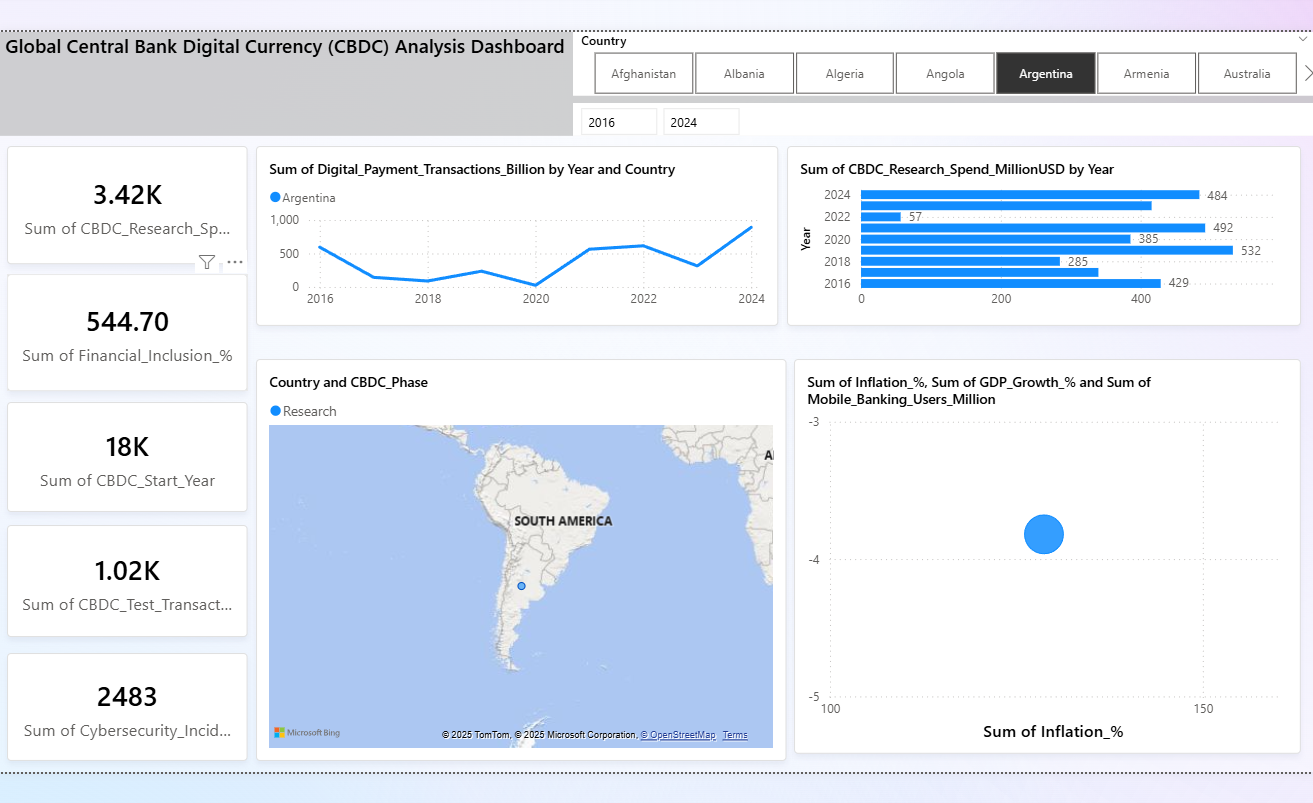

What the dashboard file says about the page in this screenshot:
{"tool":"powerbi","page":{"name":"Page 1","canvas":[1280,720],"ordinal":0},"visuals":[{"type":"textbox","title":"Global Central Bank Digital Currency (CBDC) Analysis Dashboard","box":[0,0,1280,101.2],"z":0},{"type":"slicer","fields":{"Values":["Sheet1.Country"]},"box":[557.3,0,722.7,62.2],"z":1000},{"type":"slicer","fields":{"Values":["Sheet1.Year"]},"box":[557.3,69.1,722.7,32.1],"z":2000},{"type":"card","fields":{"Values":["Sum(Sheet1.CBDC_Research_Spend_MillionUSD)"]},"box":[6.8,110.9,234.4,114.8],"z":3000},{"type":"card","fields":{"Values":["Sum(Sheet1.CBDC_Start_Year)"]},"box":[6.8,359.9,234.4,107],"z":4000},{"type":"lineChart","fields":{"Category":["Sheet1.Year"],"Y":["Sum(Sheet1.Digital_Payment_Transactions_Billion)"],"Series":["Sheet1.Country"]},"box":[249,110.9,507.7,175.1],"z":5000},{"type":"clusteredBarChart","fields":{"Y":["Sum(Sheet1.CBDC_Research_Spend_MillionUSD)"],"Category":["Sheet1.Year"]},"box":[765.5,110.9,499.9,175.1],"z":6000},{"type":"map","fields":{"Category":["Sheet1.Country"],"Series":["Sheet1.CBDC_Phase"]},"box":[249,318.1,516.5,391],"z":7000},{"type":"scatterChart","fields":{"X":["Sum(Sheet1.Inflation_%)"],"Y":["Sum(Sheet1.GDP_Growth_%)"],"Size":["Sum(Sheet1.Mobile_Banking_Users_Million)"]},"box":[772.3,318.1,493.1,384.2],"z":8000},{"type":"card","fields":{"Values":["Sum(Sheet1.CBDC_Test_Transactions_Million)"]},"box":[6.8,479.5,234.4,108.9],"z":9000},{"type":"card","fields":{"Values":["Sum(Sheet1.Cybersecurity_Incidents)"]},"box":[6.8,604,234.4,105],"z":10000},{"type":"card","fields":{"Values":["Sum(Sheet1.Financial_Inclusion_%)"]},"box":[6.8,235.4,234.4,113.8],"z":11000}]}

Visuals, with their boxes on the page's 1280x720 design canvas (x1, y1, x2, y2). These are canvas units, not pixel positions in the 1313x803 screenshot, which may show the page scaled, cropped or inside an application window:
"Global Central Bank Digital Currency (CBDC) Analysis Dashboard" textbox: pyautogui.locateOnScreen(0, 0, 1280, 101)
slicer - Sheet1.Country: pyautogui.locateOnScreen(557, 0, 1280, 62)
slicer - Sheet1.Year: pyautogui.locateOnScreen(557, 69, 1280, 101)
card - Sum(Sheet1.CBDC_Research_Spend_MillionUSD): pyautogui.locateOnScreen(7, 111, 241, 226)
card - Sum(Sheet1.CBDC_Start_Year): pyautogui.locateOnScreen(7, 360, 241, 467)
lineChart - Sheet1.Year x Sum(Sheet1.Digital_Payment_Transactions_Billion): pyautogui.locateOnScreen(249, 111, 757, 286)
clusteredBarChart - Sum(Sheet1.CBDC_Research_Spend_MillionUSD) x Sheet1.Year: pyautogui.locateOnScreen(766, 111, 1265, 286)
map - Sheet1.Country x Sheet1.CBDC_Phase: pyautogui.locateOnScreen(249, 318, 766, 709)
scatterChart - Sum(Sheet1.Inflation_%) x Sum(Sheet1.GDP_Growth_%): pyautogui.locateOnScreen(772, 318, 1265, 702)
card - Sum(Sheet1.CBDC_Test_Transactions_Million): pyautogui.locateOnScreen(7, 480, 241, 588)
card - Sum(Sheet1.Cybersecurity_Incidents): pyautogui.locateOnScreen(7, 604, 241, 709)
card - Sum(Sheet1.Financial_Inclusion_%): pyautogui.locateOnScreen(7, 235, 241, 349)
